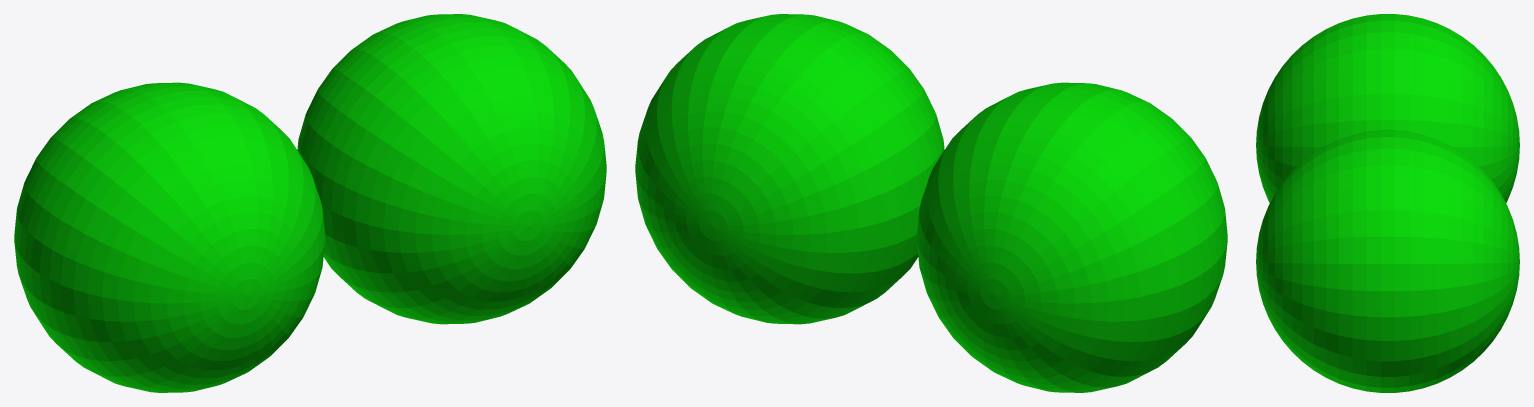
The model's file is Chlorine.glb.
3 renders of one model, left to right at view 1: azimuth 30°, elevation 25°; view 2: azimuth 150°, elevation 25°; view 3: azimuth 270°, elevation 25°, orthographic. The views are drawn at different scales.
Visible parts, largest first — view 1: world; view 2: world; view 3: world.
Boxes of the visible parts, x1,y1,x2,y2 form: world: (14,14,606,392); world: (635,14,1227,392); world: (1256,14,1519,392).
Size of the model in its own units: 4.09 by 1.99 by 2.
